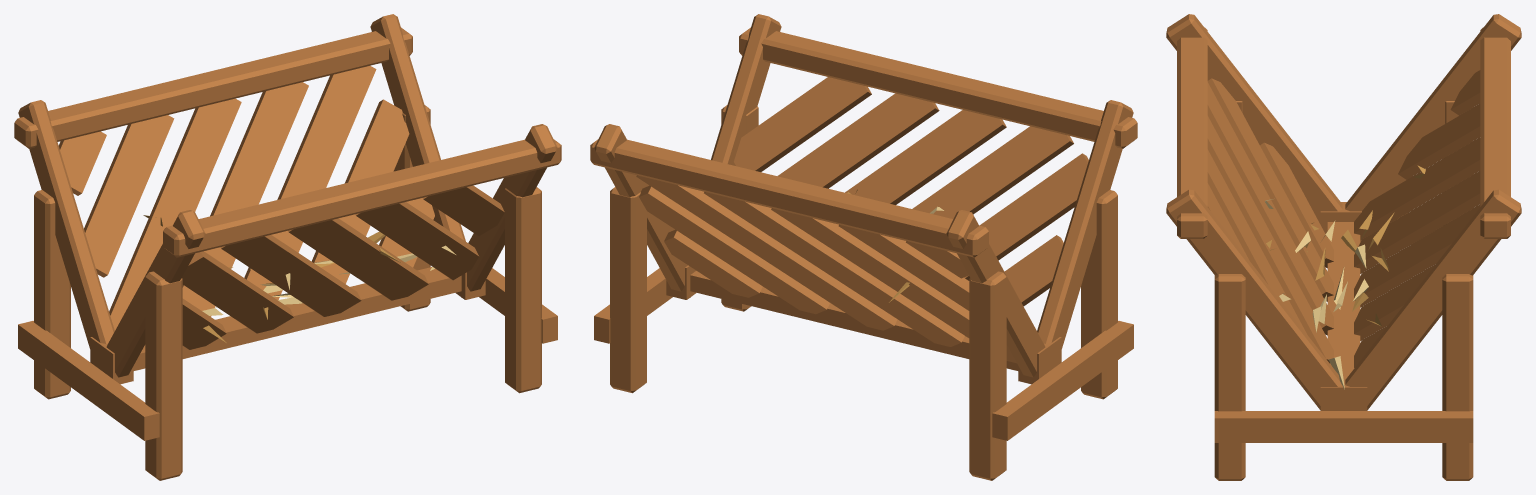
Rendered from hay-empty.glb.
3 views of the same model, side by side, from view 1: azimuth 30°, elevation 25°; view 2: azimuth 150°, elevation 25°; view 3: azimuth 270°, elevation 25° (orthographic). The views are drawn at different scales.
Visible parts, largest first — view 1: frame, slats, straw_light; view 2: frame, slats; view 3: frame, slats, straw_light, straw_gold.
Boxes of the visible parts, x1,y1,x2,y2 form: frame: (14,14,561,480); slats: (58,66,504,349); straw_light: (202,245,455,315); frame: (590,14,1137,480); slats: (636,77,1088,363); frame: (1166,14,1521,480); slats: (1207,70,1480,367); straw_light: (1265,198,1368,389); straw_gold: (1266,165,1425,326).
Bounding box in the file's own units: 1.35 × 0.8619 × 0.9826.
